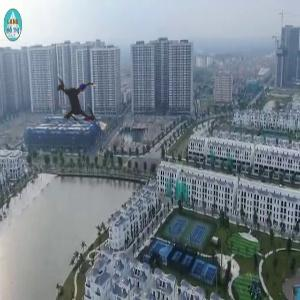drone: (27, 51, 132, 156)
